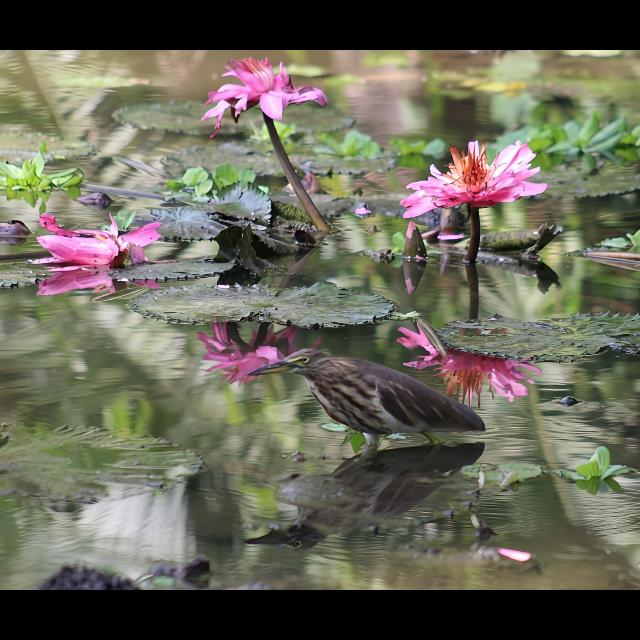heron: (244, 342, 492, 466)
